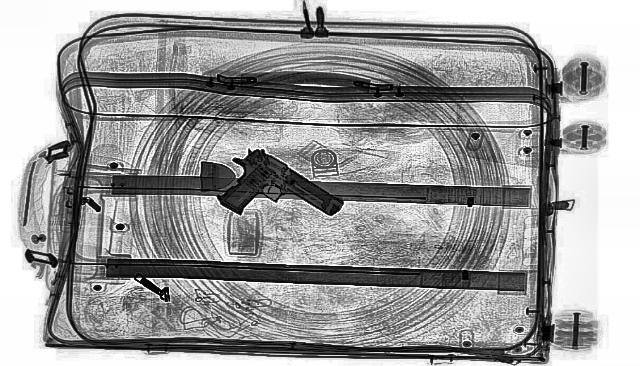Gun: (177, 145, 351, 239)
